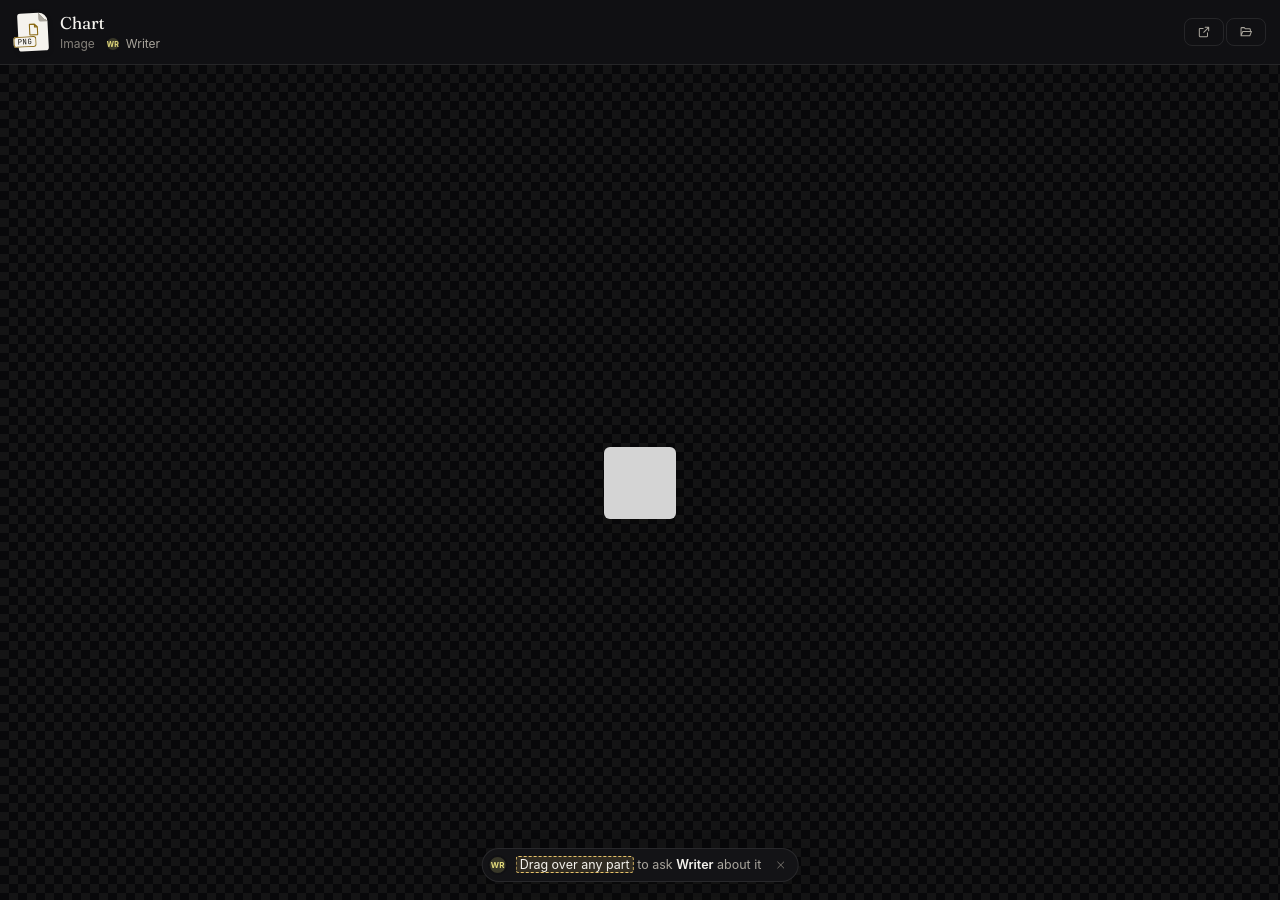
Test case: a picture in the reader › shows its own tip to a person who has only marked words
Expected: the text "Drag over any part" is shown, [516,856,634,873]
Click the button named "Hide this tip": [780, 865] box [769,854,791,876]
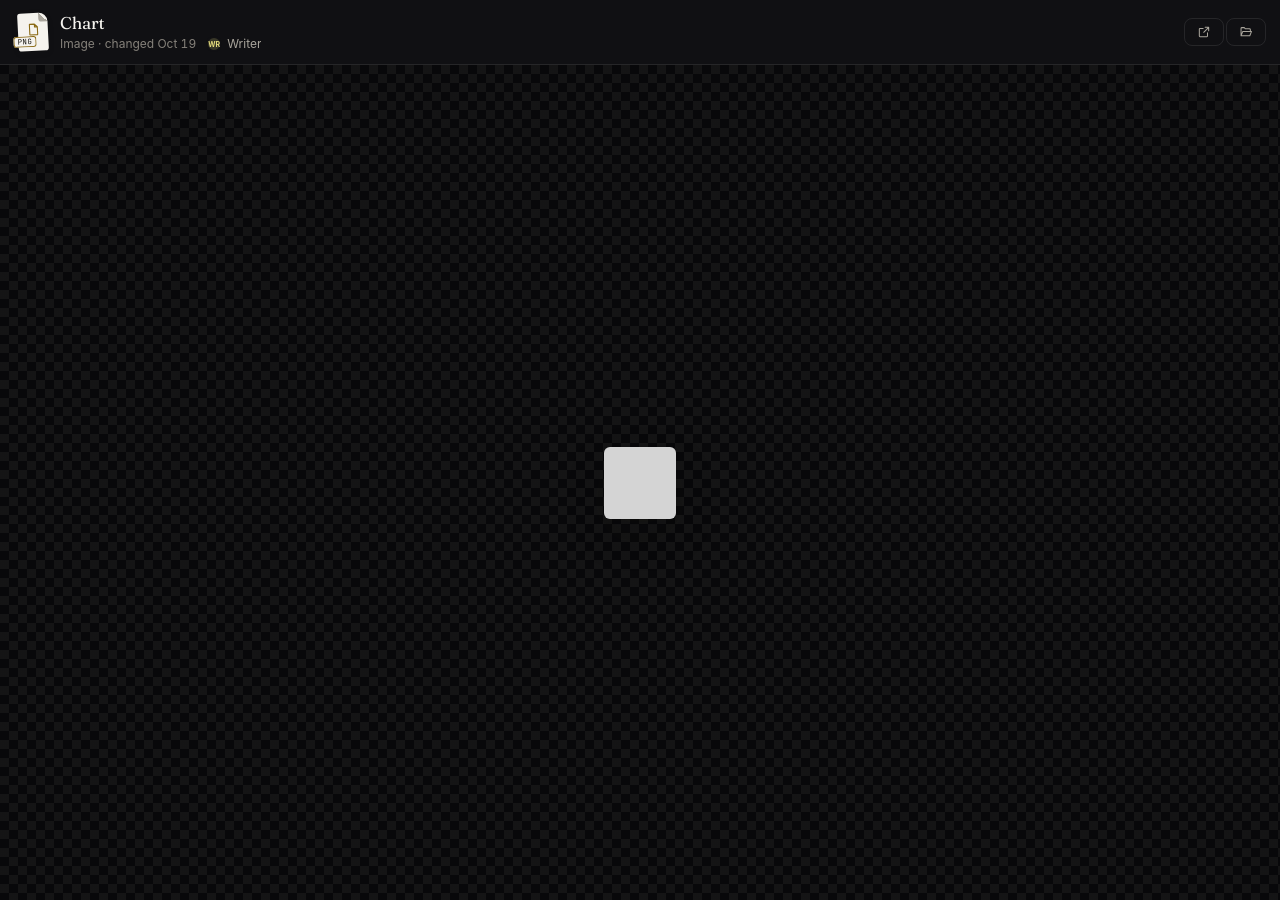
Expected: the text "Drag over any part" is gone
